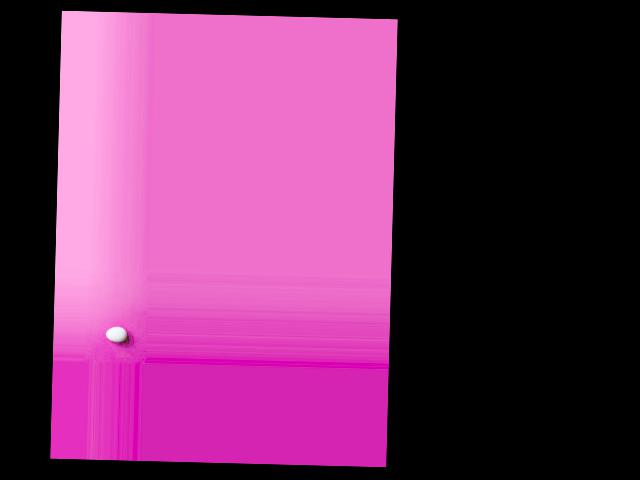egg: (105, 326, 127, 341)
